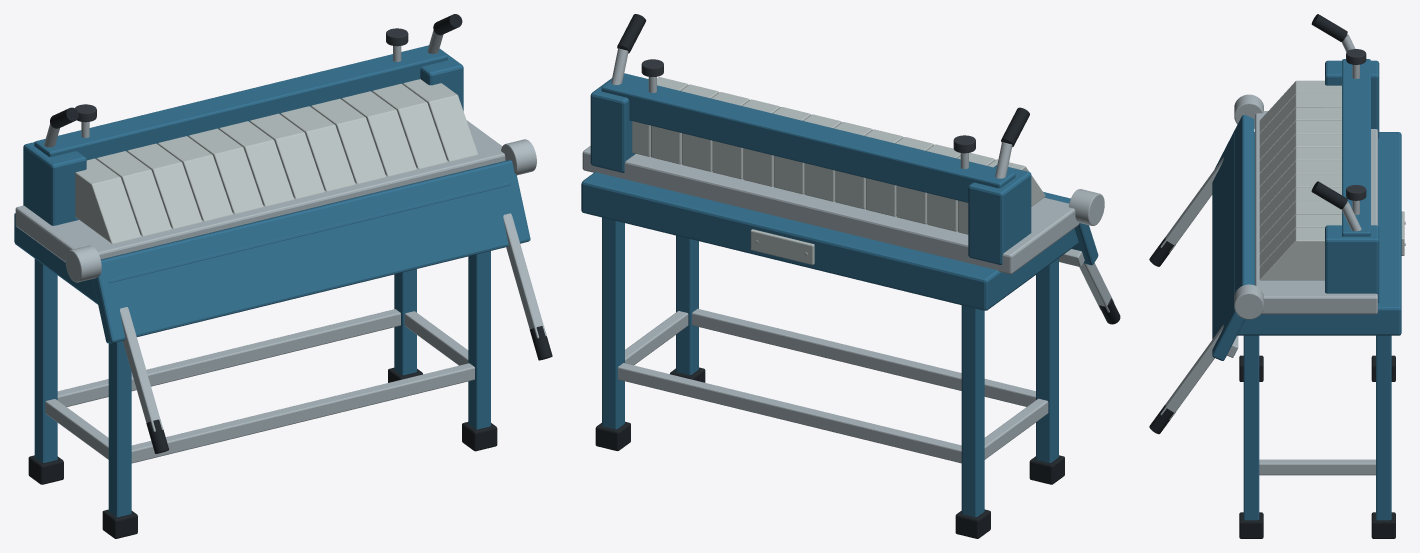
File: city-manual-sheet-metal-brake.glb
The picture shows the model from 3 angles, left to right: view 1: azimuth 30°, elevation 25°; view 2: azimuth 150°, elevation 25°; view 3: azimuth 270°, elevation 25°; orthographic projection. The views are drawn at different scales.
Parts seen in each view (by area): view 1: Assembly | Deep blue service paint, Assembly | Powder-coated light service metal, Assembly | Brushed exposed steel, Assembly | Rubber feet and hoses, Assembly | Dark mechanism trim; view 2: Assembly | Deep blue service paint, Assembly | Brushed exposed steel, Assembly | Powder-coated light service metal, Assembly | Rubber feet and hoses, Assembly | Dark mechanism trim; view 3: Assembly | Deep blue service paint, Assembly | Powder-coated light service metal, Assembly | Brushed exposed steel, Assembly | Rubber feet and hoses, Assembly | Dark mechanism trim.
Boxes of the visible parts, left/top/right/bottom form: Assembly | Deep blue service paint: left=14, top=45, right=530, bottom=517; Assembly | Powder-coated light service metal: left=75, top=79, right=477, bottom=243; Assembly | Brushed exposed steel: left=15, top=30, right=546, bottom=463; Assembly | Rubber feet and hoses: left=28, top=14, right=552, bottom=538; Assembly | Dark mechanism trim: left=75, top=28, right=408, bottom=122; Assembly | Deep blue service paint: left=581, top=73, right=1098, bottom=517; Assembly | Brushed exposed steel: left=582, top=48, right=1114, bottom=463; Assembly | Powder-coated light service metal: left=632, top=77, right=1045, bottom=264; Assembly | Rubber feet and hoses: left=595, top=14, right=1120, bottom=538; Assembly | Dark mechanism trim: left=641, top=59, right=975, bottom=153; Assembly | Deep blue service paint: left=1212, top=59, right=1401, bottom=520; Assembly | Powder-coated light service metal: left=1259, top=80, right=1404, bottom=280; Assembly | Brushed exposed steel: left=1160, top=34, right=1405, bottom=475; Assembly | Rubber feet and hoses: left=1149, top=14, right=1395, bottom=538; Assembly | Dark mechanism trim: left=1346, top=49, right=1366, bottom=200.
Size of the model in its own units: 1.64 by 1.37 by 0.8906.
